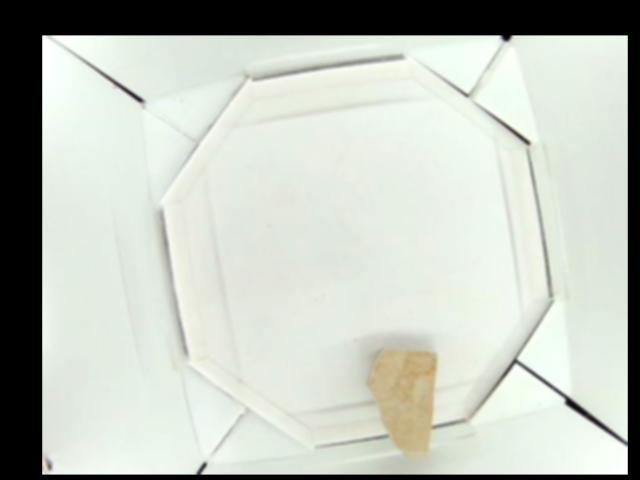China: (366, 352, 436, 457)
